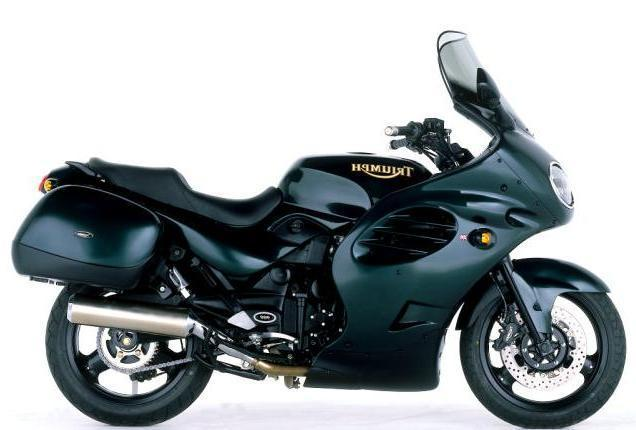motorcycle: (5, 27, 635, 430)
